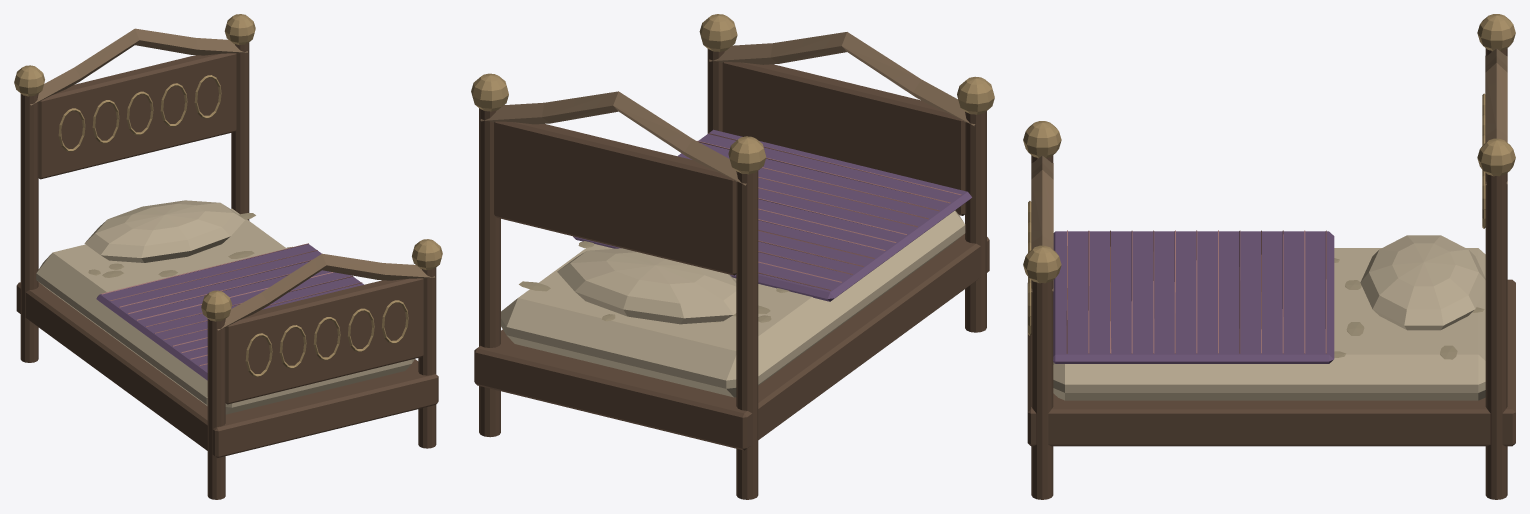
File: victorian_bed.glb
3 renders of one model, left to right at view 1: azimuth 30°, elevation 25°; view 2: azimuth 150°, elevation 25°; view 3: azimuth 270°, elevation 25°, orthographic. The views are drawn at different scales.
Parts seen in each view (by area): view 1: victorian_bed; view 2: victorian_bed; view 3: victorian_bed.
Part boxes in pixels (<box>): victorian_bed: <box>14,14,442,499</box>; victorian_bed: <box>471,14,994,499</box>; victorian_bed: <box>1023,14,1515,499</box>.
Size of the model in its own units: 1.46 by 1.8 by 2.17.
